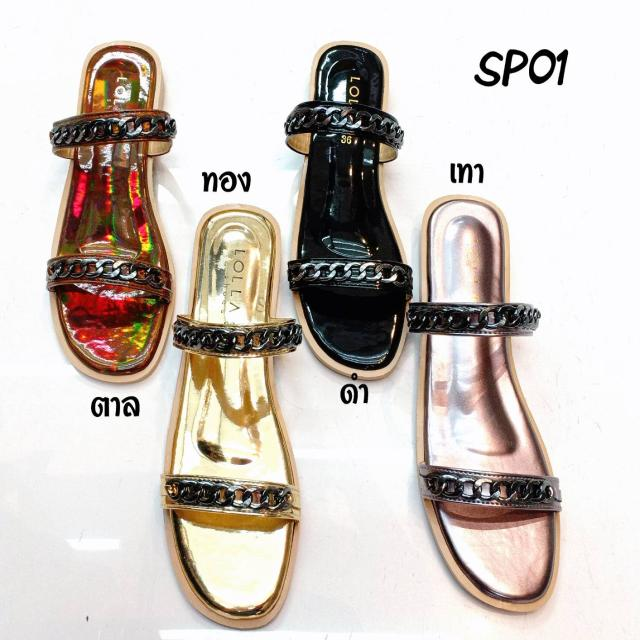black: (295, 42, 407, 381)
gold: (165, 210, 308, 621)
grey: (417, 195, 557, 604)
tarn: (52, 44, 176, 374)
